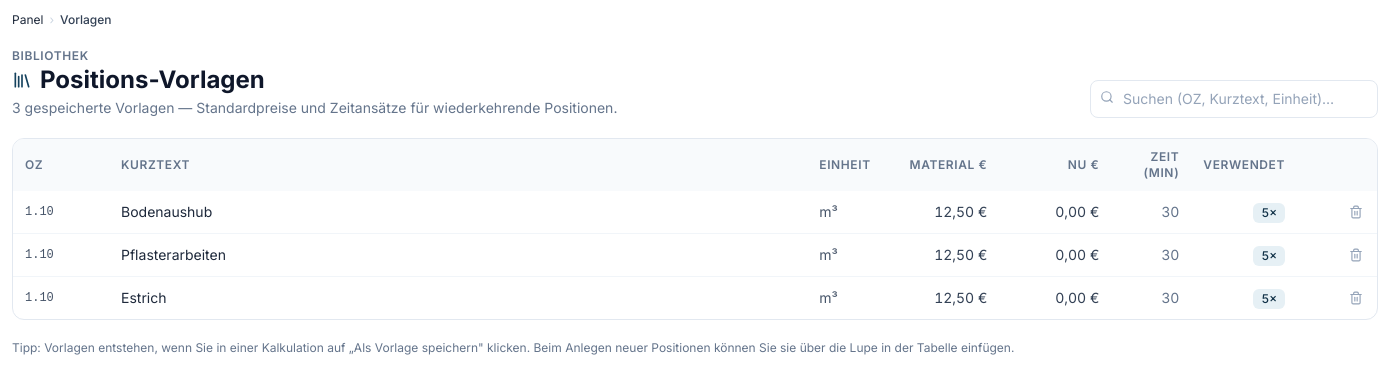
Test: Vorlagen › search filters by shortText (case-insensitive)
Expected: the text "Bodenaushub" is shown, [109, 191, 807, 234]
Step 1. Type "pflaster" into the search field with placeholder "Suchen (OZ, Kurztext, Einheit)…" → (1234, 99), box [1090, 80, 1378, 118]
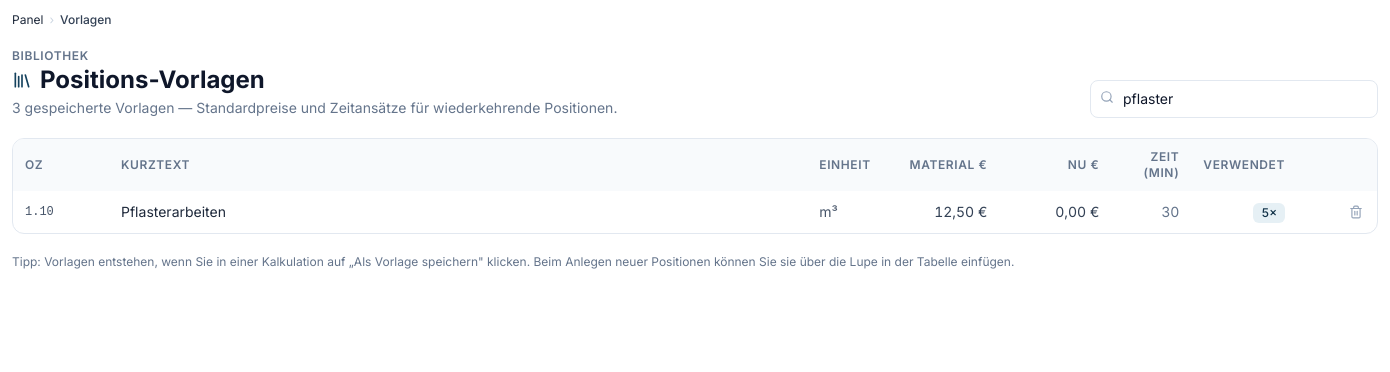
Expected: the text "Pflasterarbeiten" is shown, [109, 191, 807, 233]
Now the text "Bodenaushub" is gone
Now the text "Estrich" is gone
